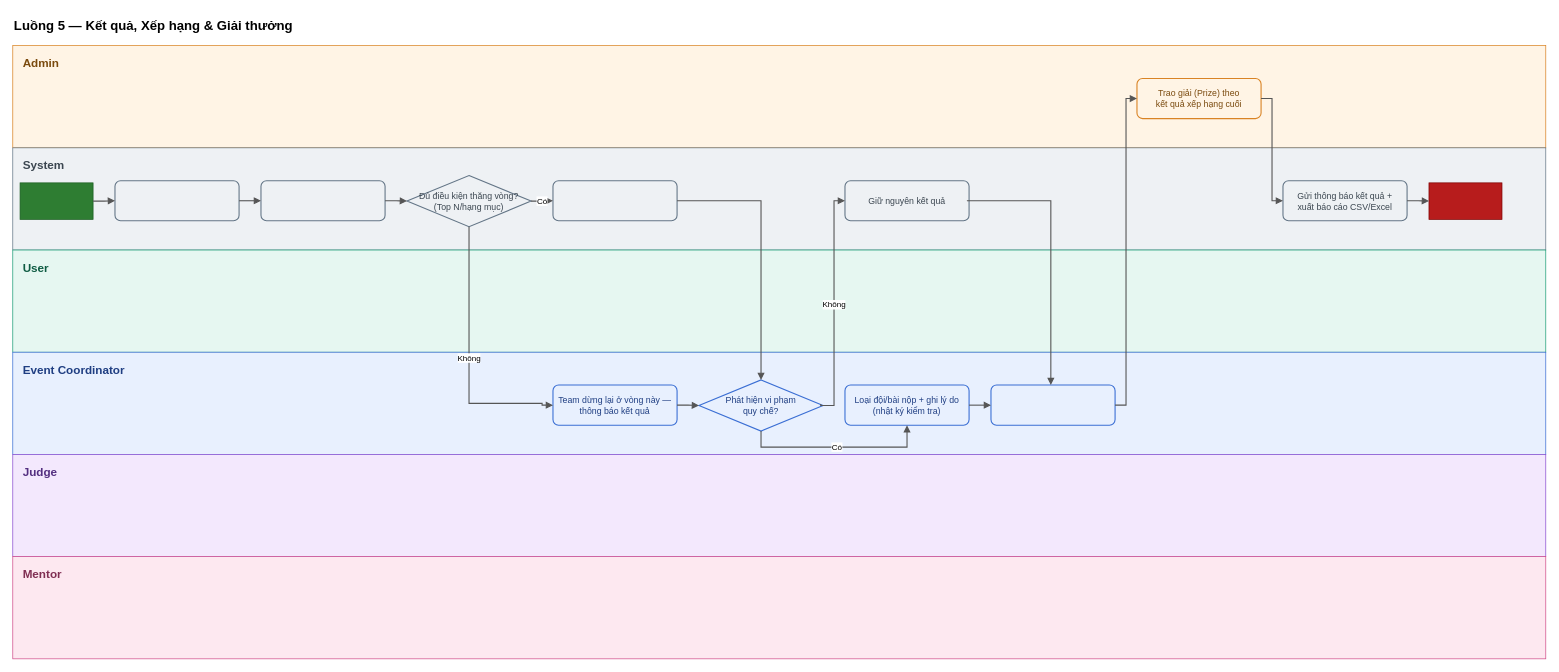
The diagram is 1559 pixels wide and 672 high, and some of its shapes have lost their labels. The centre of each missing label's shape, as x and y in pixels:
"Bắt đầu" belongs at [56,200].
"Công bố FinalResult" belongs at [1052,404].
"Kết thúc" belongs at [1465,200].
"Team.IsAdvanced = true" belongs at [614,200].
"Tính TotalScore mỗi Team (tổng hợp điểm các Judge)" belongs at [176,200].
"Xếp hạng theo Track/Round" belongs at [322,200].
